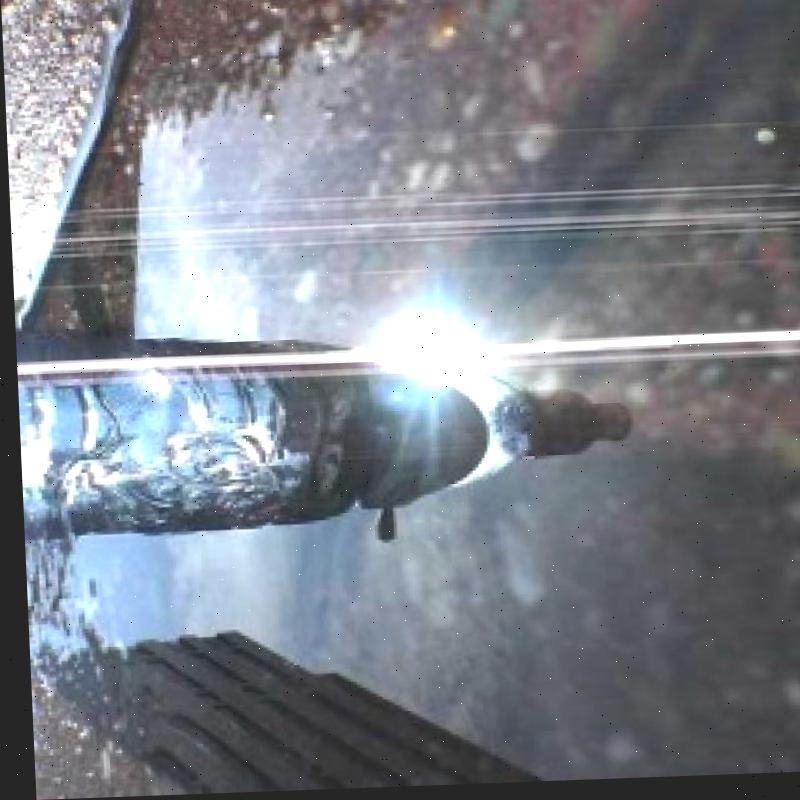botella: (12, 327, 629, 543)
